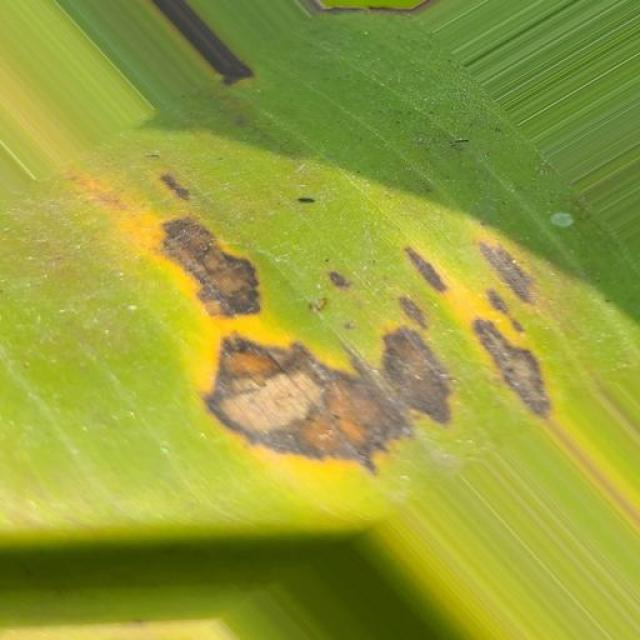Early_rust: (85, 86, 640, 530)
